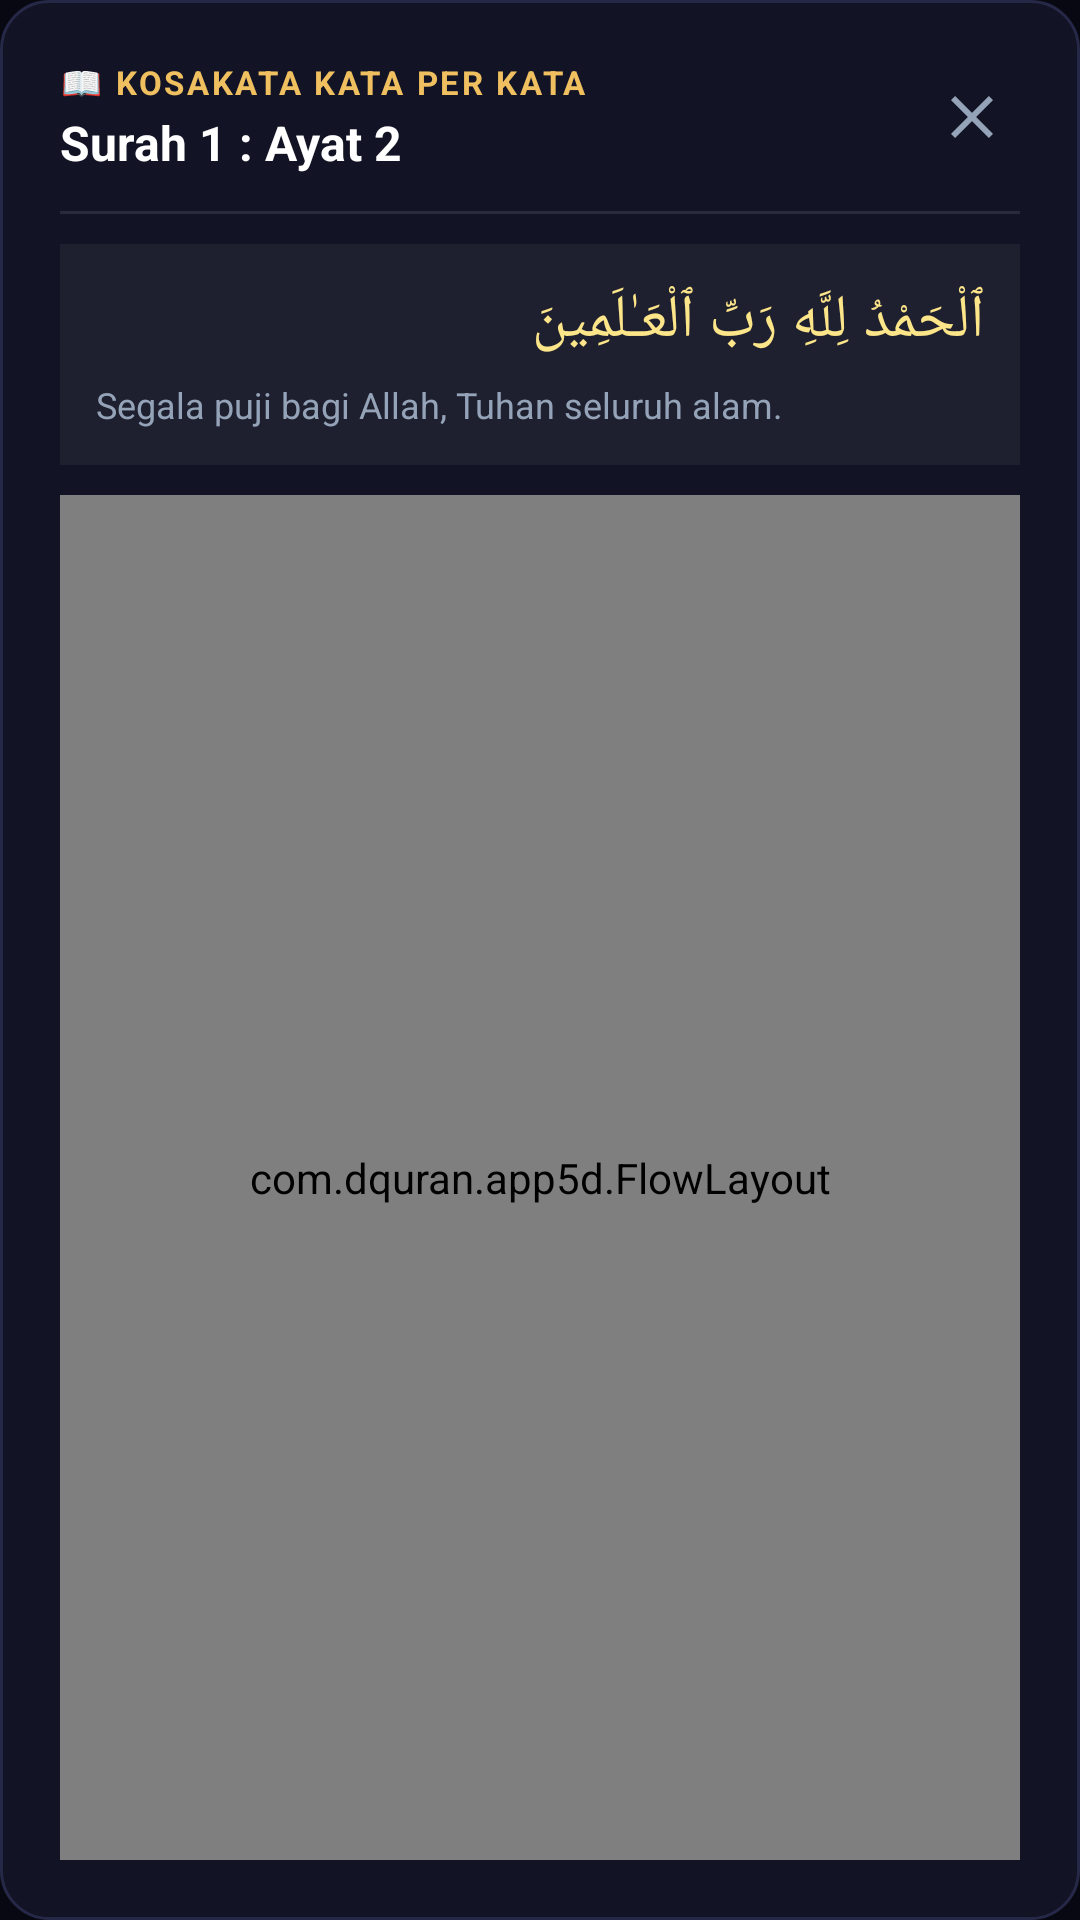

Named icons in this screenshot (1080x1920) and their bounding boxes, (x1, y1, x2, y2):
Tutup: (951, 96, 993, 138)
